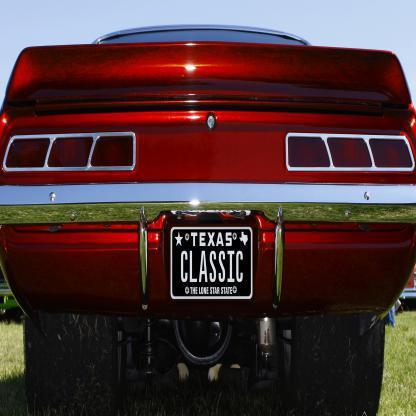License-Plate: (165, 218, 257, 309)
